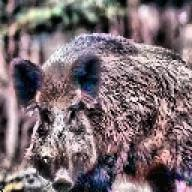boar: (9, 30, 192, 192)
